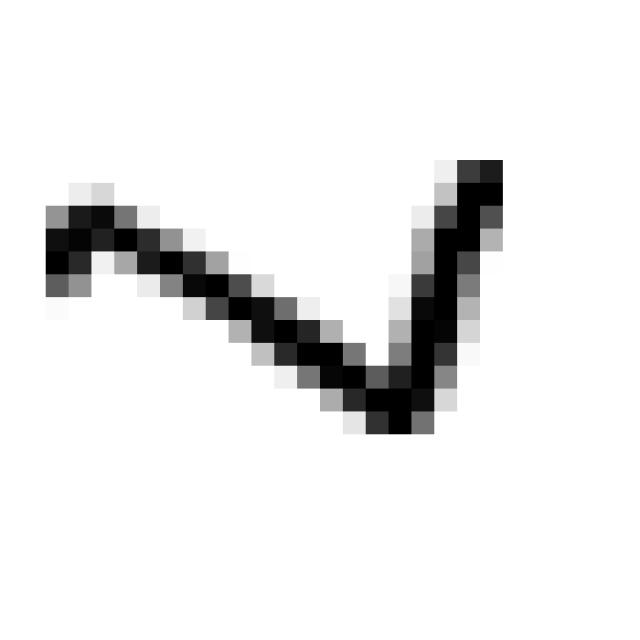7 -seven-: (25, 135, 521, 457)
